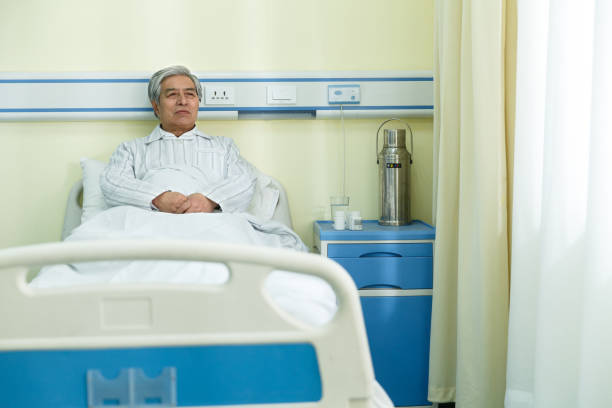bedside_table: (310, 214, 441, 408)
foot_board: (1, 240, 396, 408)
hospital_bed: (1, 146, 394, 408)
light_switch: (266, 84, 297, 105)
patient: (100, 66, 257, 212)
